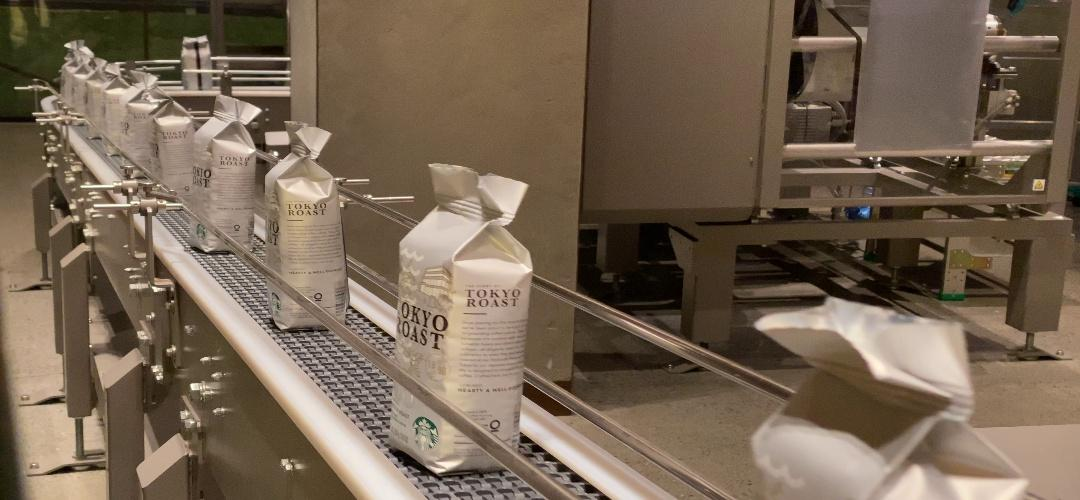conveyor: (396, 235, 526, 367), (265, 170, 346, 265), (192, 132, 258, 201)
